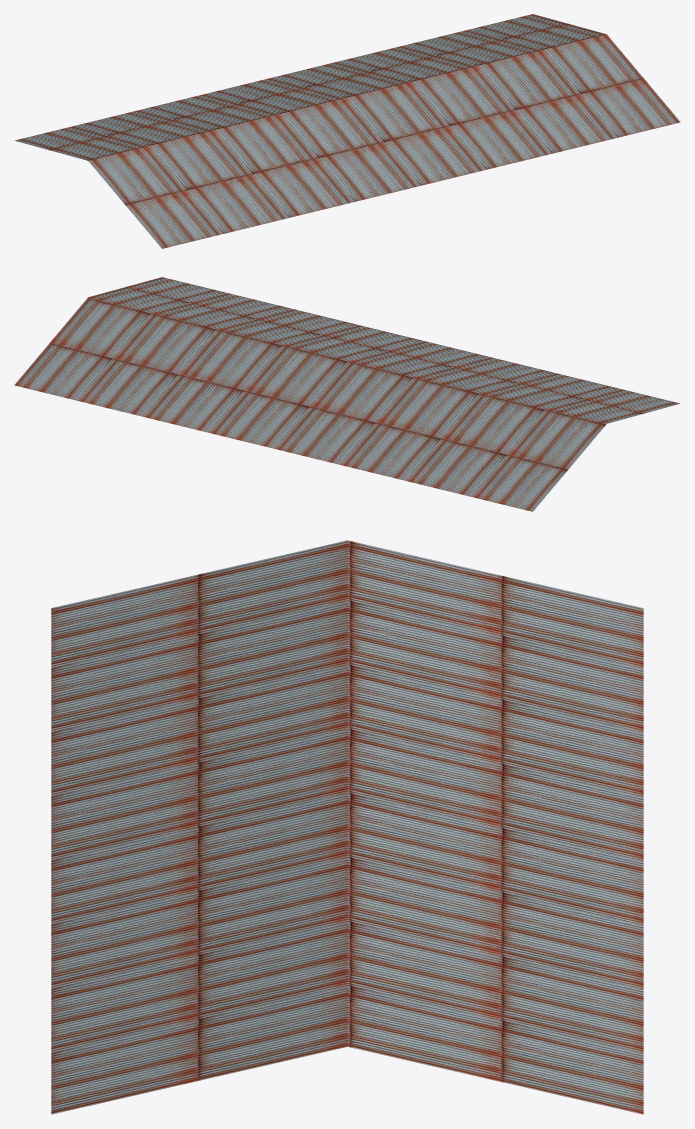
File: openbuildinga001_id_2_metalcorrugatedb_0_lev1.glb
3 renders of one model, top to bottom at view 1: azimuth 30°, elevation 25°; view 2: azimuth 150°, elevation 25°; view 3: azimuth 270°, elevation 25°, orthographic. The views are drawn at different scales.
Visible parts, largest first — view 1: openbuildinga001_id_2_metalcorrugatedb_0_lev1; view 2: openbuildinga001_id_2_metalcorrugatedb_0_lev1; view 3: openbuildinga001_id_2_metalcorrugatedb_0_lev1.
Part boxes in pixels (x1,y1,x2,y2): openbuildinga001_id_2_metalcorrugatedb_0_lev1: (14,14,680,248); openbuildinga001_id_2_metalcorrugatedb_0_lev1: (14,277,680,511); openbuildinga001_id_2_metalcorrugatedb_0_lev1: (51,540,643,1114).
Bounding box in the file's own units: 12.69 × 0.7922 × 6.27.
Materials: 1 (1 with a texture image).
